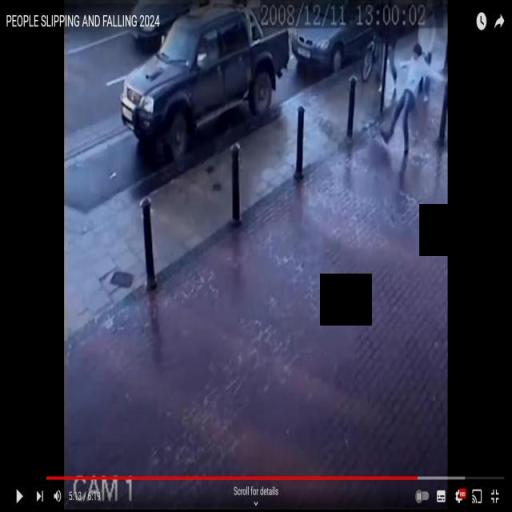Fall: (378, 39, 448, 159)
